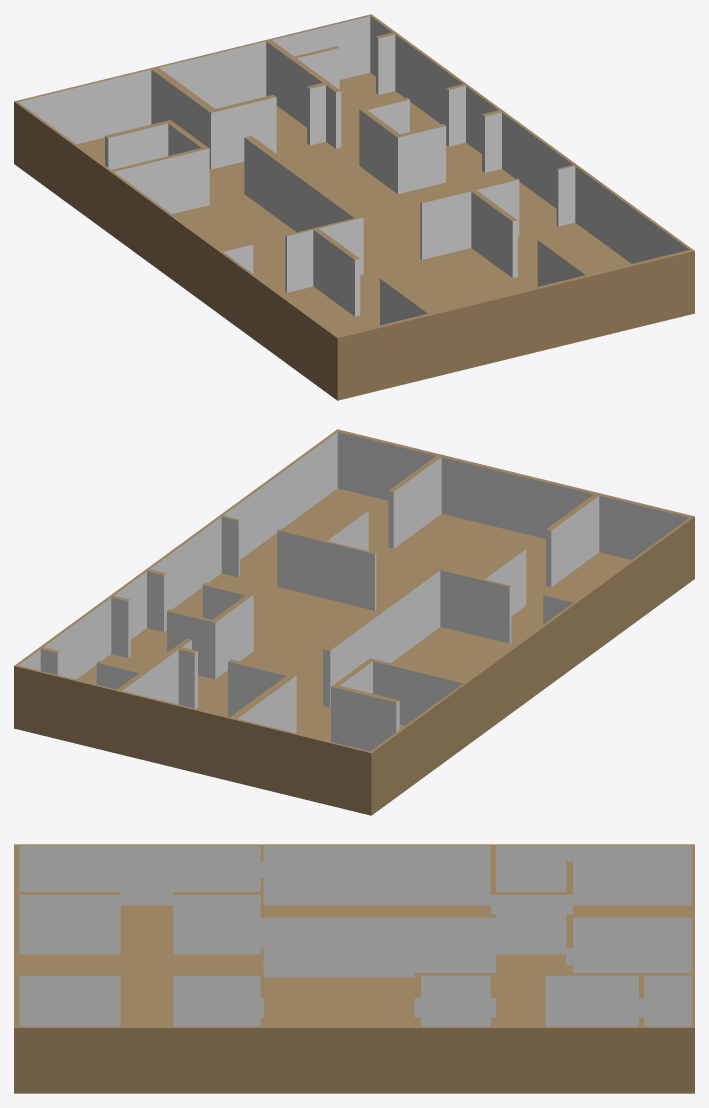
Rendered from locationAbylaiHome.fbx.
3 renders of one model, top to bottom at view 1: azimuth 30°, elevation 25°; view 2: azimuth 150°, elevation 25°; view 3: azimuth 270°, elevation 25°, orthographic. The views are drawn at different scales.
Visible parts, largest first — view 1: Cube; view 2: Cube; view 3: Cube.
Part boxes in pixels (bbox=[...]): Cube: bbox=[14, 14, 694, 400]; Cube: bbox=[14, 429, 694, 815]; Cube: bbox=[14, 844, 694, 1093].
Size of the model in its own units: 2643 by 442 by 4143.
